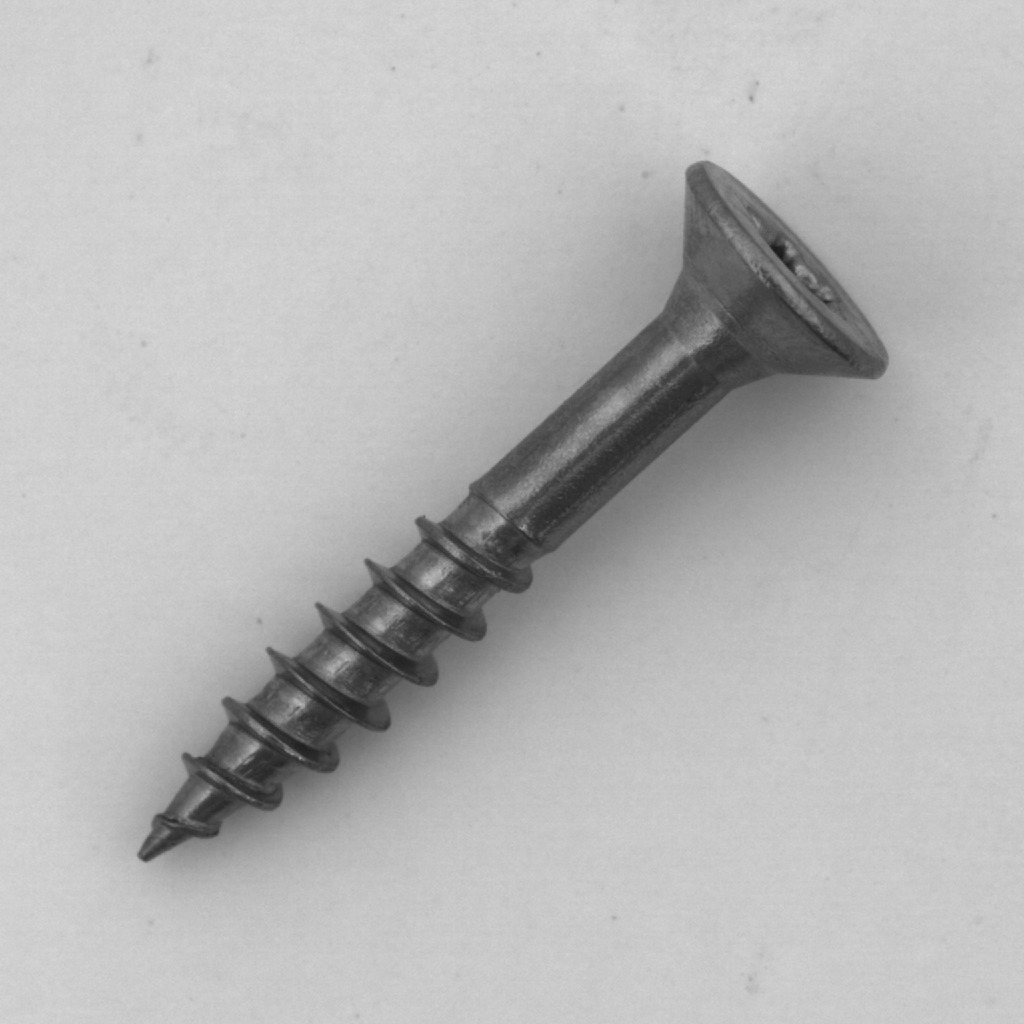good: (115, 141, 913, 888)
